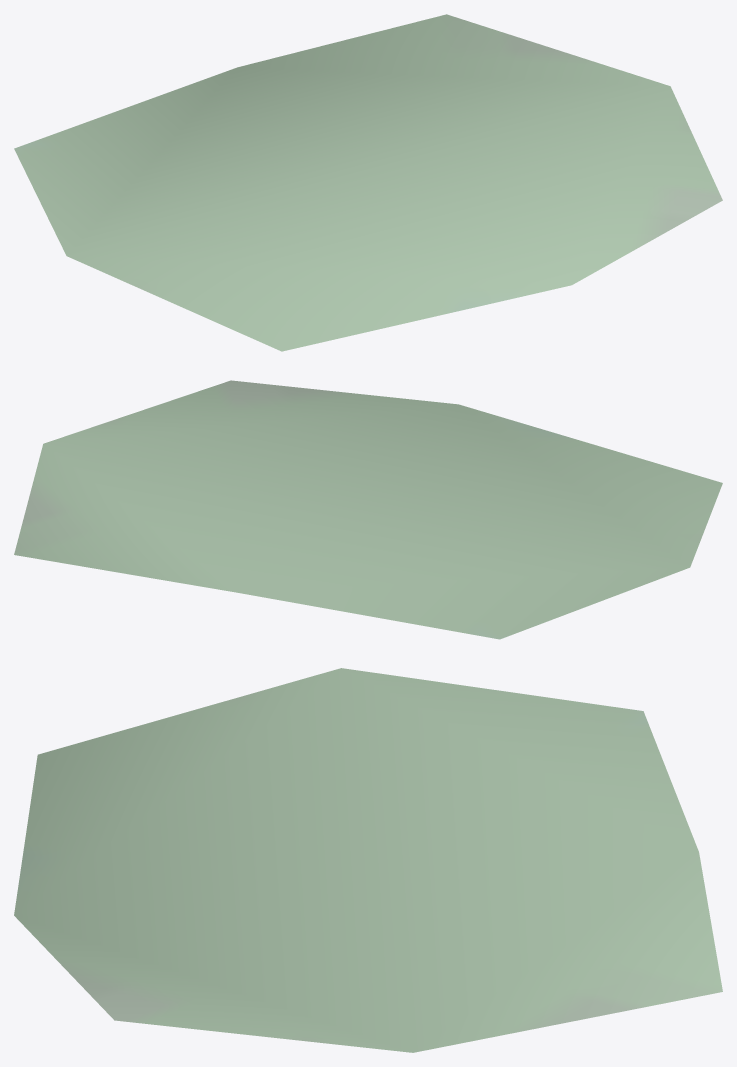
The model's file is TROLLHOLE02_HOLECAP215.fbx.
3 views of the same model, one above another, from view 1: azimuth 30°, elevation 25°; view 2: azimuth 150°, elevation 25°; view 3: azimuth 270°, elevation 25° (orthographic). The views are drawn at different scales.
Parts seen in each view (by area): view 1: TROLLHOLE02_HOLECAP215; view 2: TROLLHOLE02_HOLECAP215; view 3: TROLLHOLE02_HOLECAP215.
Part boxes in pixels (<box>): TROLLHOLE02_HOLECAP215: <box>14,14,722,351</box>; TROLLHOLE02_HOLECAP215: <box>14,380,722,639</box>; TROLLHOLE02_HOLECAP215: <box>14,668,722,1052</box>.
Bounding box in the file's own units: 16789 × 776 × 13334.
1 material, 1 textured.
